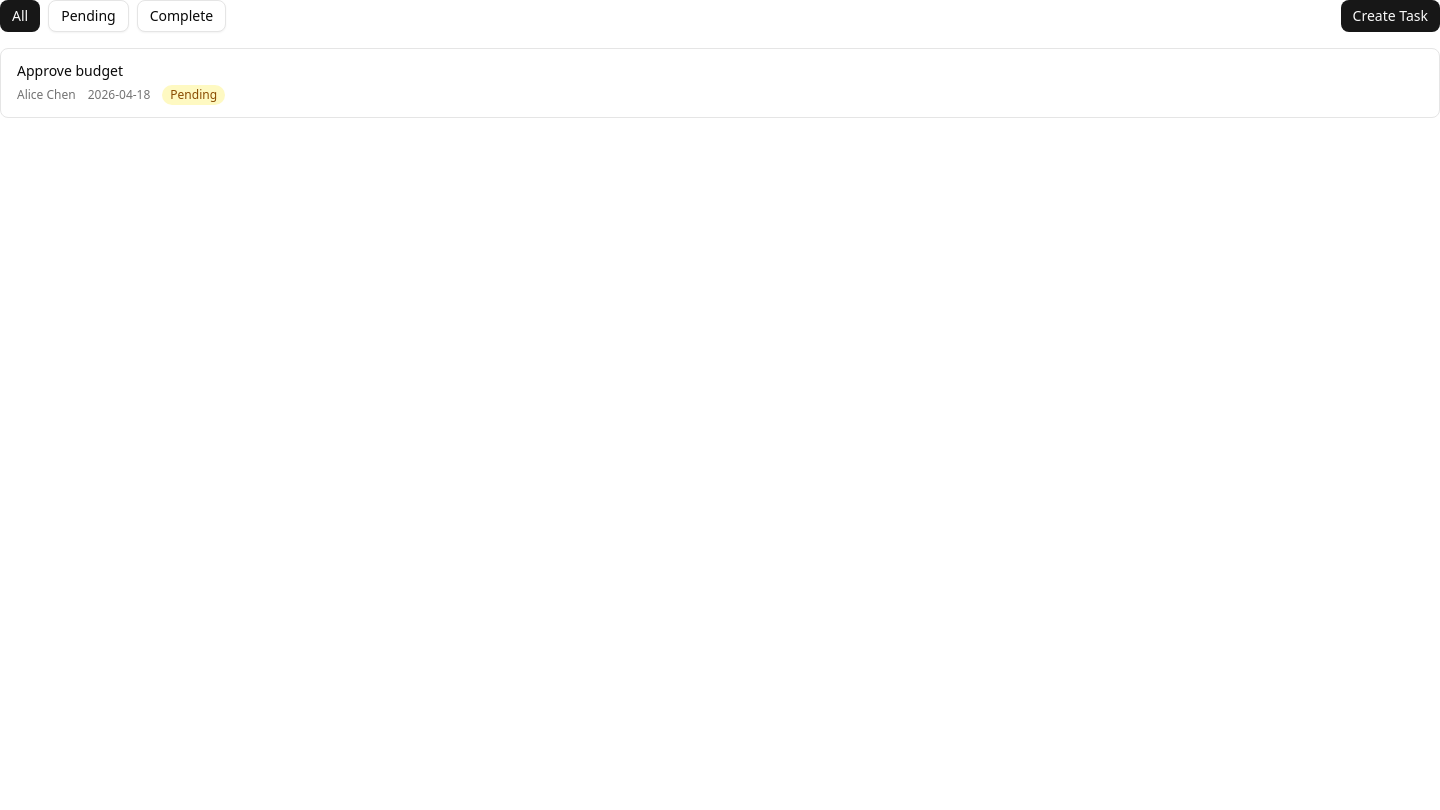
Test: AC-3: Clicking "Create Task" opens the create task form › AC-3: clicking "Create Task" opens a dialog overlay
The image size is (1440, 810).
Click the button "Create Task" at (1390, 16), box 1341,0 -> 1439,32
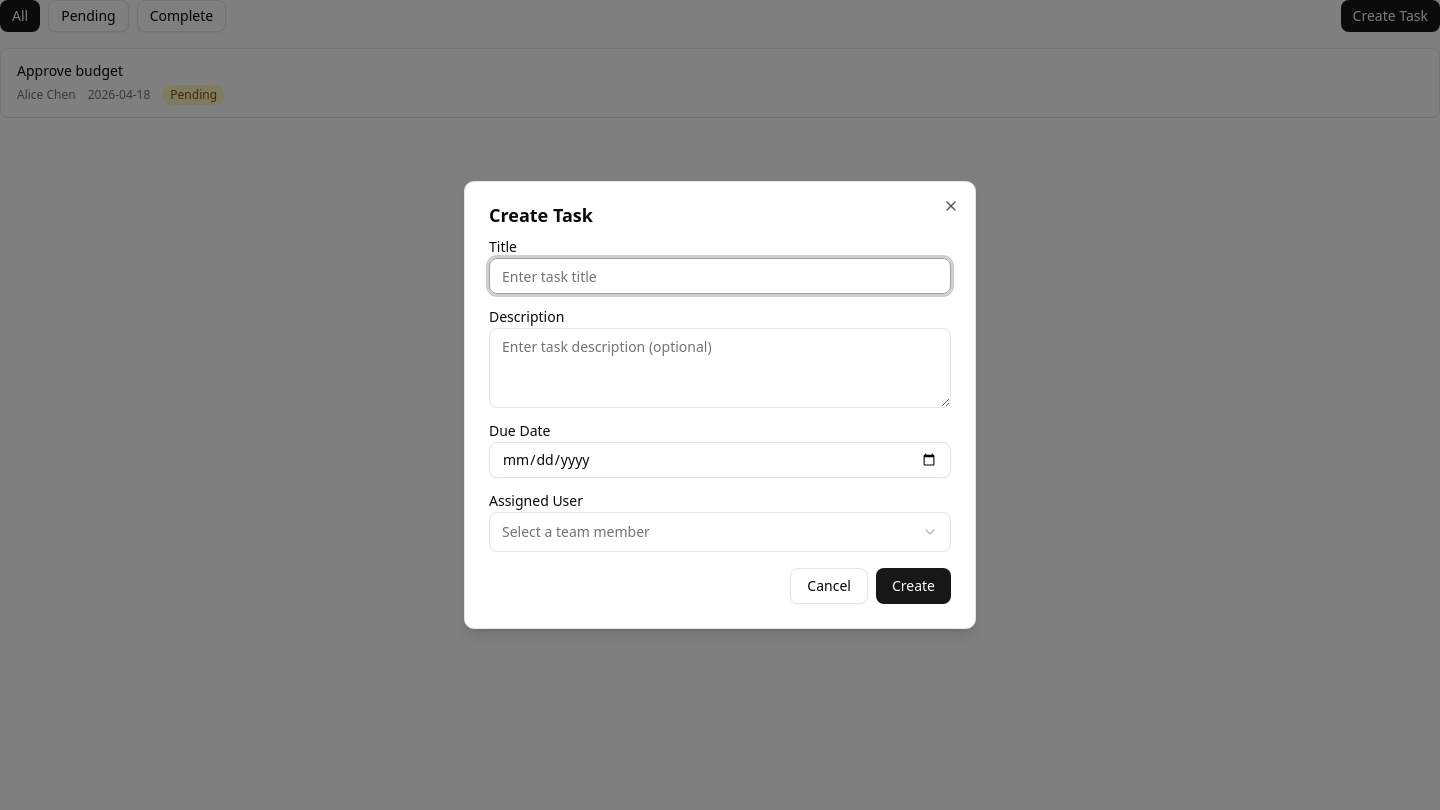
Expected: the dialog is shown, 464,181 -> 976,629
